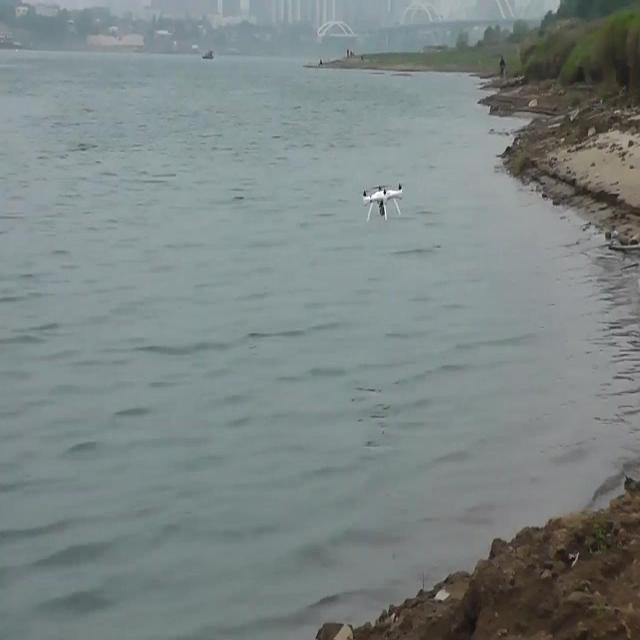drone: (359, 179, 409, 225)
